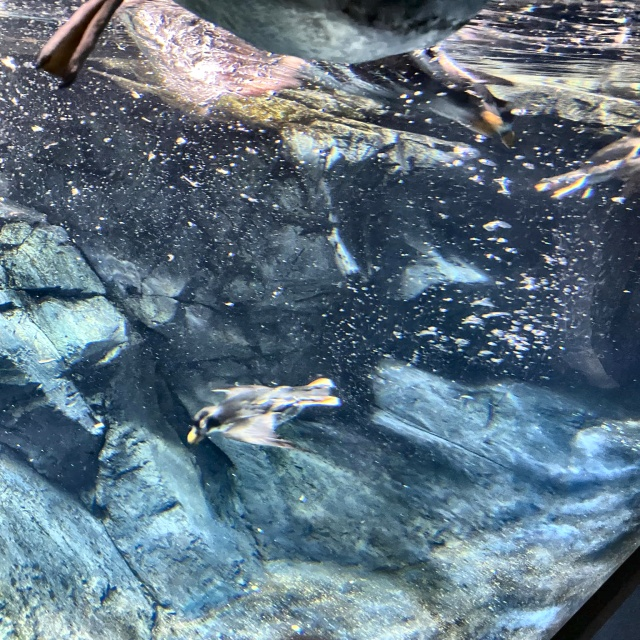puffin: (32, 0, 512, 143), (186, 378, 338, 451), (537, 123, 639, 202)
